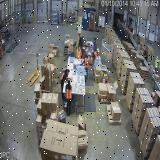Vest: (66, 85, 72, 98), (84, 56, 89, 68), (94, 50, 100, 57), (77, 49, 81, 59), (61, 72, 65, 79), (155, 59, 158, 68), (145, 50, 148, 59), (150, 55, 152, 61)
